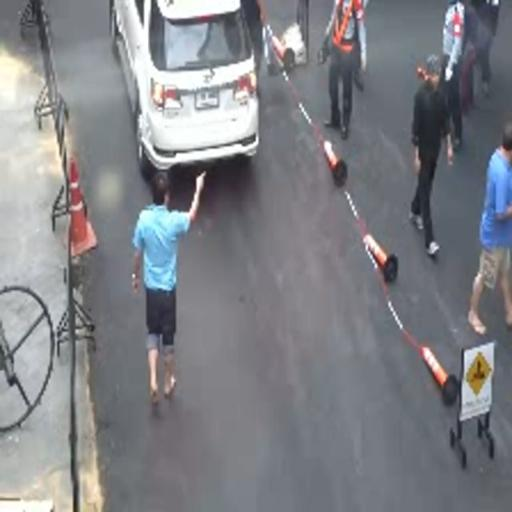nao-violencia: (106, 144, 222, 423)
